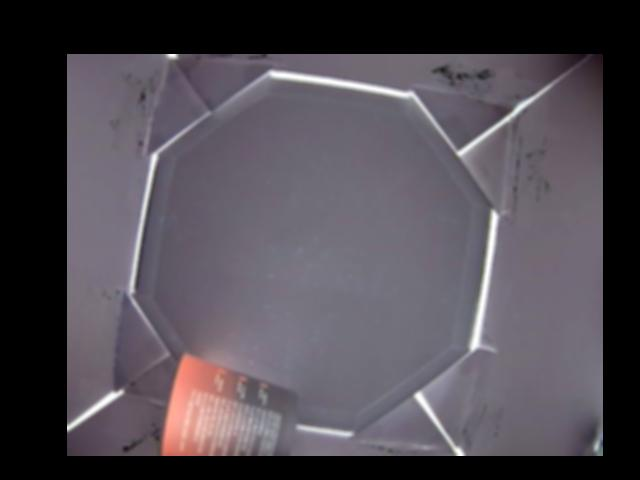Cup: (158, 352, 297, 455)
